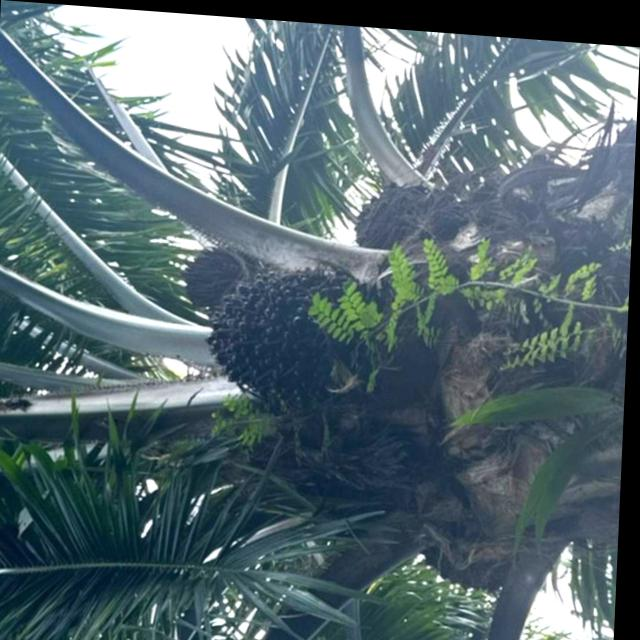almost: (205, 253, 368, 406)
